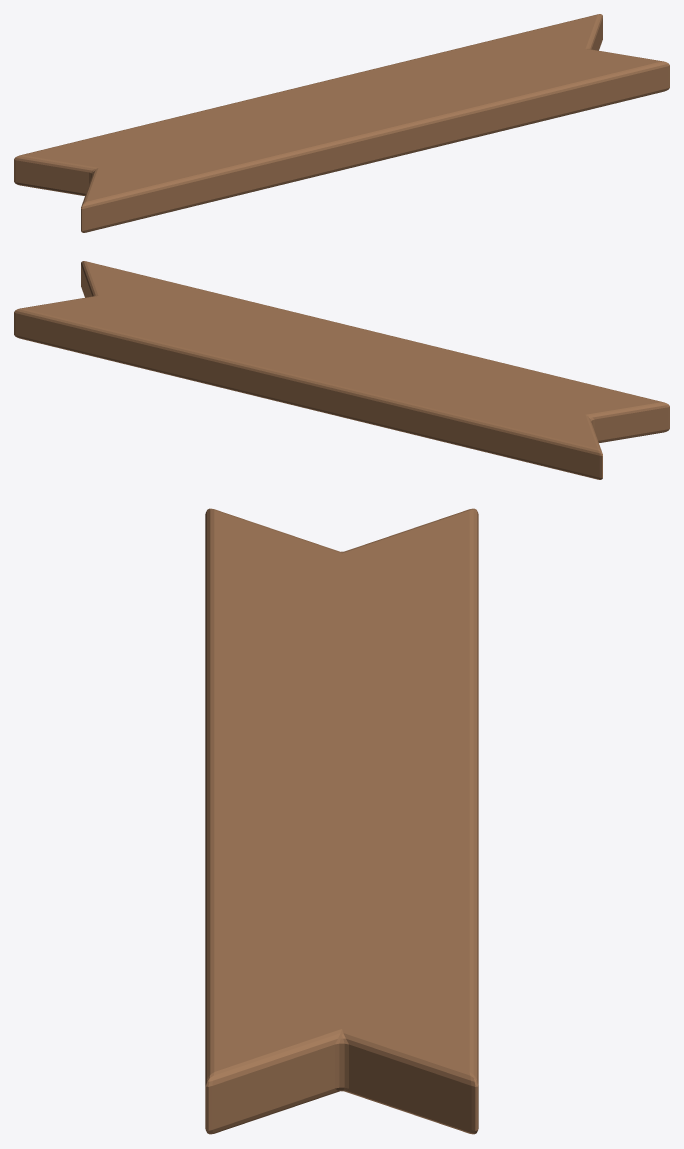
The model's file is SM_UI_HeaderRibbon.fbx.
3 renders of one model, top to bottom at view 1: azimuth 30°, elevation 25°; view 2: azimuth 150°, elevation 25°; view 3: azimuth 270°, elevation 25°, orthographic. The views are drawn at different scales.
Visible parts, largest first — view 1: SM_UI_HeaderRibbon; view 2: SM_UI_HeaderRibbon; view 3: SM_UI_HeaderRibbon.
Part boxes in pixels (x1,y1,x2,y2): SM_UI_HeaderRibbon: (14, 14, 669, 232); SM_UI_HeaderRibbon: (14, 261, 669, 479); SM_UI_HeaderRibbon: (205, 508, 478, 1134).
Size of the model in its own units: 4.48 by 0.22 by 0.9.
